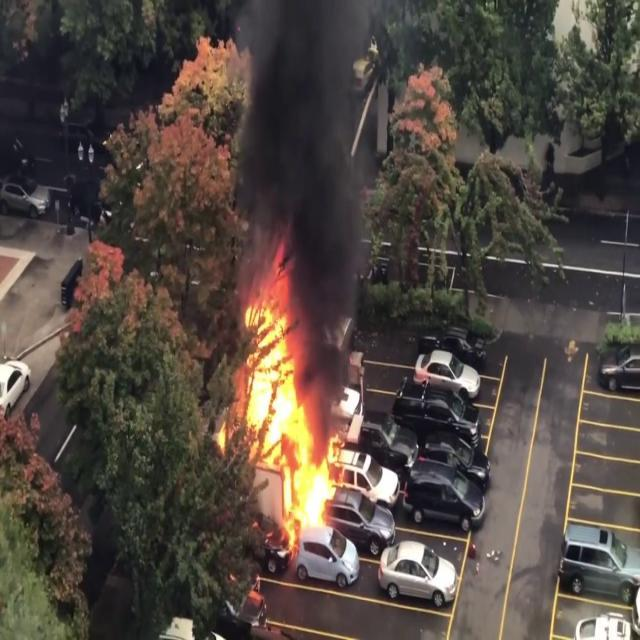Fire: (222, 263, 346, 544)
Smoke: (222, 0, 382, 332)
